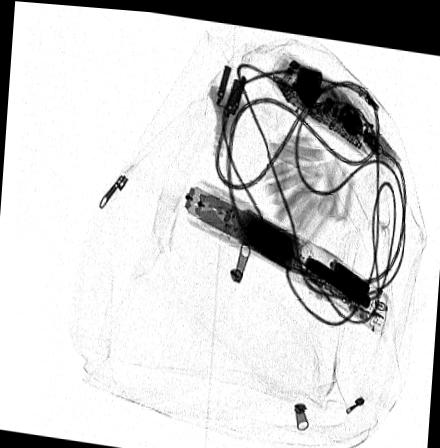Baton: (181, 174, 391, 327)
